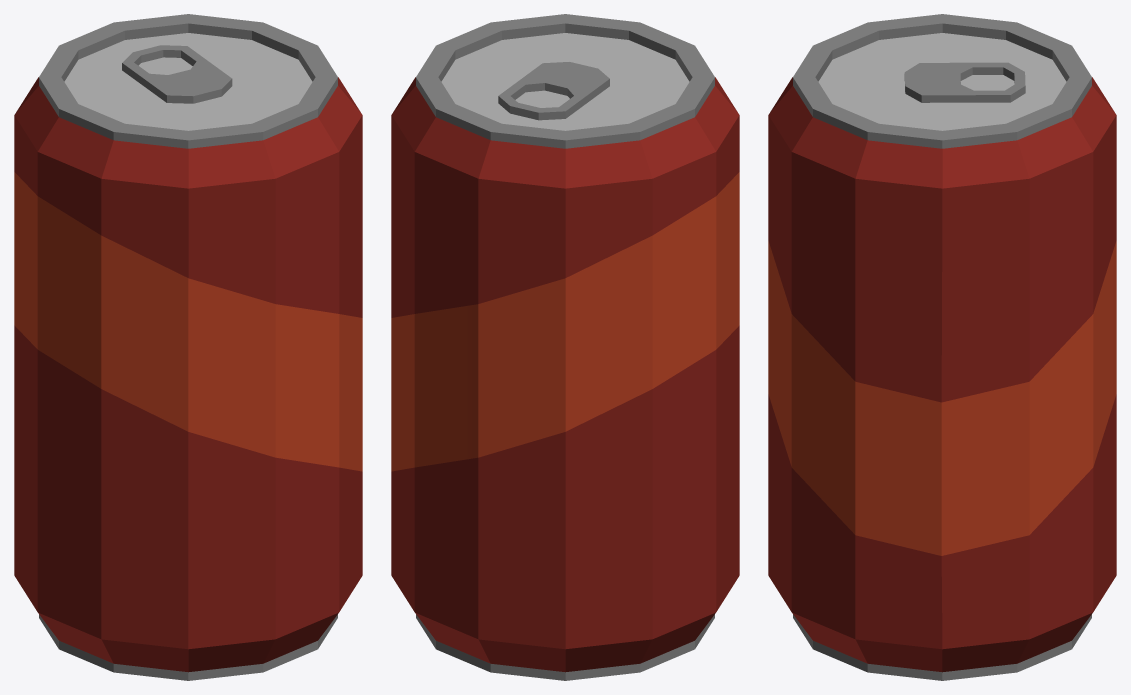
File: LowPolyCan.fbx
3 renders of one model, left to right at view 1: azimuth 30°, elevation 25°; view 2: azimuth 150°, elevation 25°; view 3: azimuth 270°, elevation 25°, orthographic.
Visible parts, largest first — view 1: Can, Cap; view 2: Can, Cap; view 3: Can, Cap.
Part boxes in pixels (bbox=[...]): Can: bbox=[14, 14, 362, 680]; Cap: bbox=[122, 45, 232, 103]; Can: bbox=[391, 14, 739, 680]; Cap: bbox=[498, 62, 609, 120]; Can: bbox=[768, 14, 1116, 680]; Cap: bbox=[904, 62, 1025, 102].
Size of the model in its own units: 6.76 by 11.57 by 6.75.
